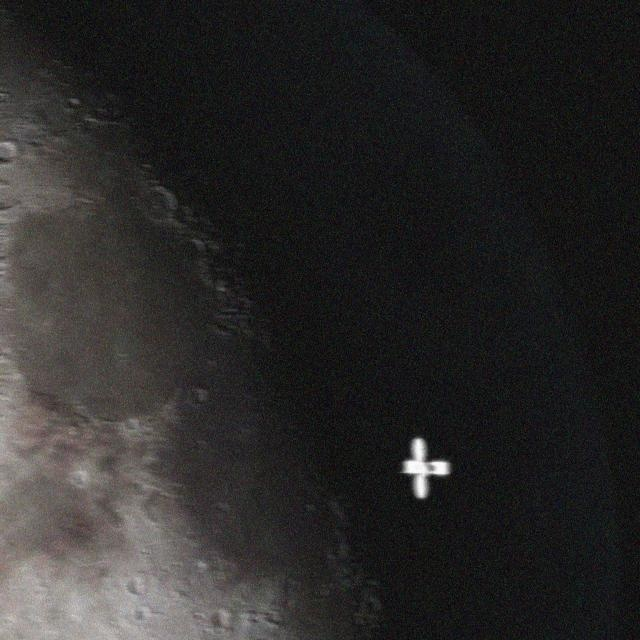satellite: (396, 433, 463, 507)
